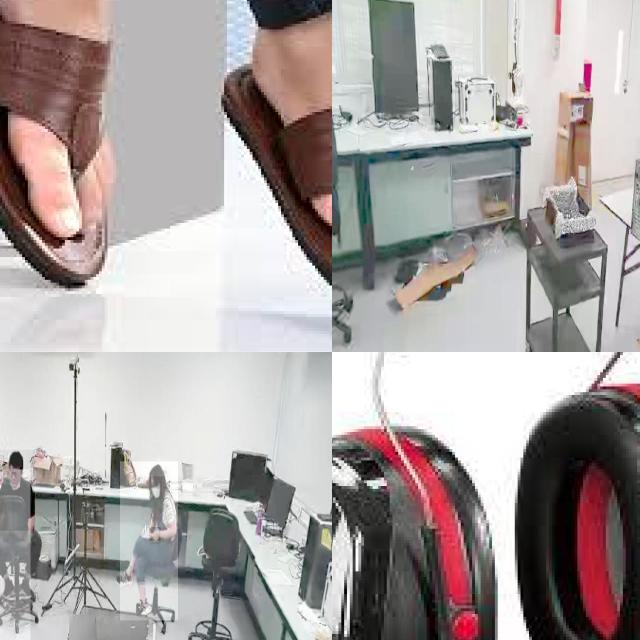Ear-protection: (332, 352, 640, 640)
Sandals: (0, 0, 123, 290), (222, 24, 332, 343)
face_mask: (150, 476, 162, 499)
face_nomask: (8, 469, 21, 486)
hand_noglove: (149, 527, 161, 541)
head_nohelmet: (8, 450, 23, 468), (148, 463, 166, 477)
person: (120, 462, 178, 622), (0, 449, 35, 530)
shoes: (18, 572, 36, 604), (0, 575, 15, 603), (114, 568, 134, 588)
